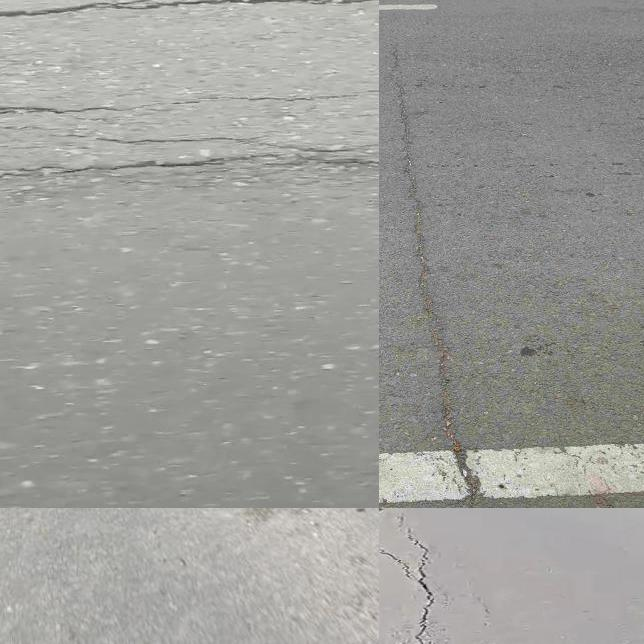Melintang: (0, 139, 379, 199), (0, 0, 379, 33)
Memanjang: (380, 19, 500, 508), (383, 516, 455, 644)
